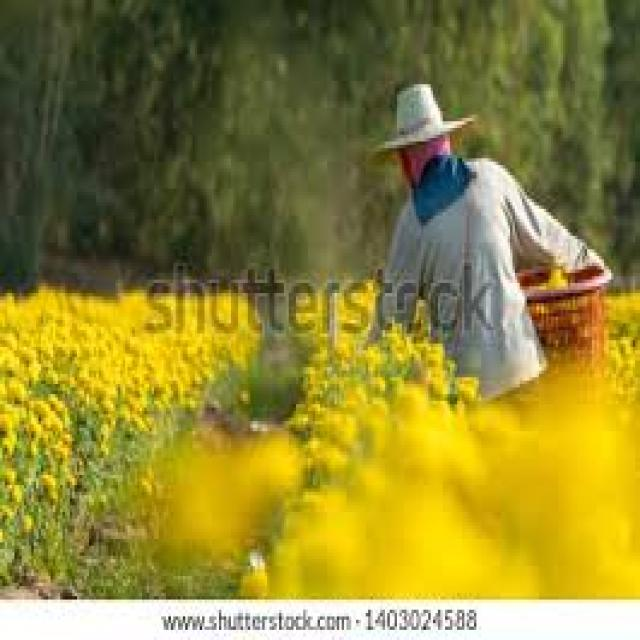basket: (520, 266, 614, 362)
